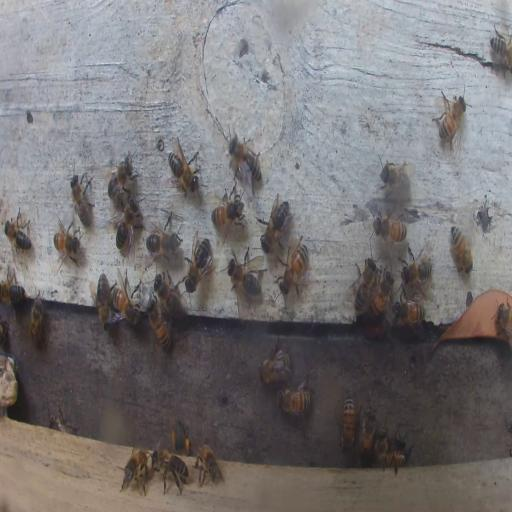bee: (432, 88, 468, 150), (226, 131, 264, 186), (258, 192, 292, 251), (228, 248, 264, 300), (348, 253, 377, 314), (183, 231, 212, 291), (111, 272, 142, 327), (154, 448, 189, 496), (168, 140, 198, 196), (114, 198, 142, 254), (281, 239, 308, 297), (210, 186, 244, 230), (258, 340, 292, 384), (69, 166, 93, 228), (52, 215, 81, 265), (449, 224, 475, 279), (145, 219, 181, 258), (122, 448, 150, 496), (194, 443, 223, 488), (377, 157, 409, 196), (108, 156, 136, 200), (4, 210, 32, 253), (489, 24, 512, 76), (1, 266, 27, 312), (155, 272, 183, 314), (148, 299, 171, 349), (276, 385, 311, 415), (91, 272, 110, 327), (373, 214, 407, 244), (371, 270, 392, 317), (29, 289, 45, 350), (402, 254, 433, 284), (358, 407, 376, 458), (392, 299, 425, 324), (341, 395, 355, 448), (50, 408, 78, 432), (494, 305, 511, 344), (172, 420, 189, 456), (382, 448, 406, 470), (376, 426, 388, 464), (0, 321, 7, 343)
